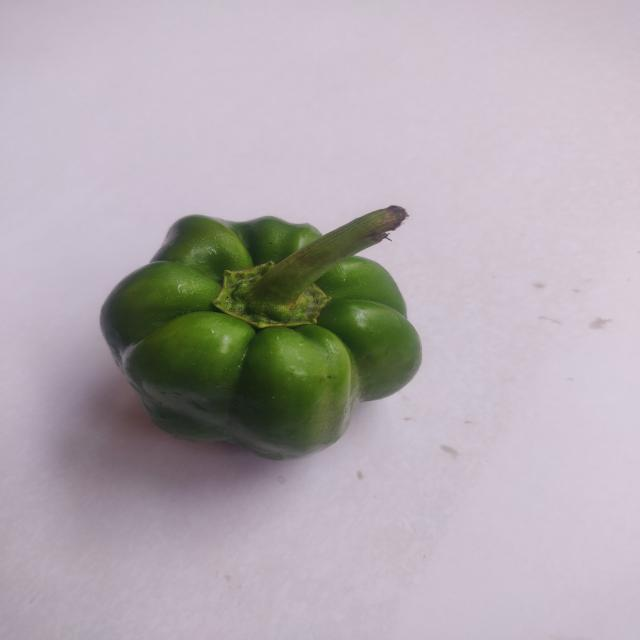Capsicum: (99, 194, 436, 468)
